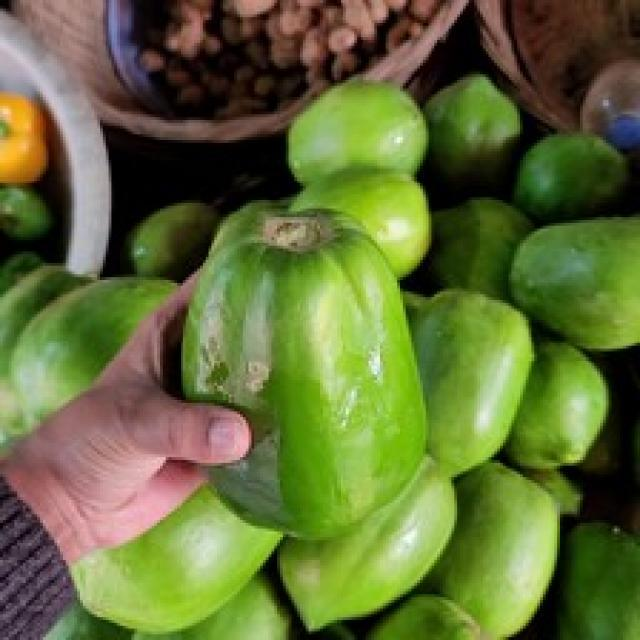Pepaya unrippen: (174, 208, 449, 550)
